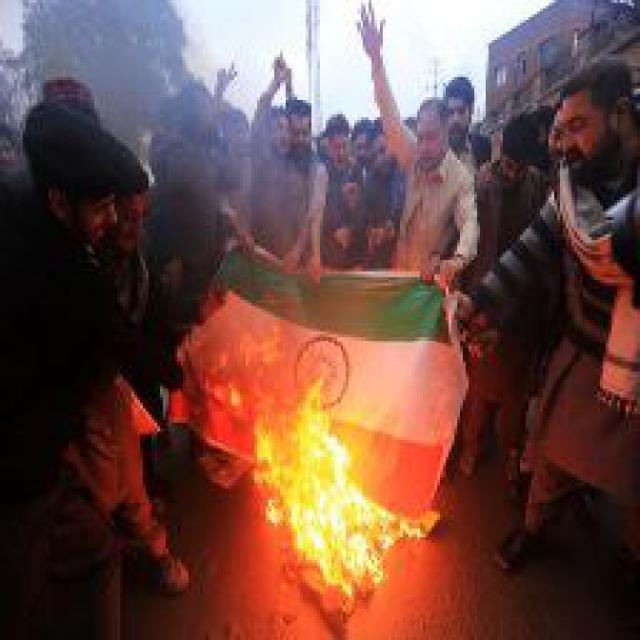fire: (214, 363, 443, 620)
